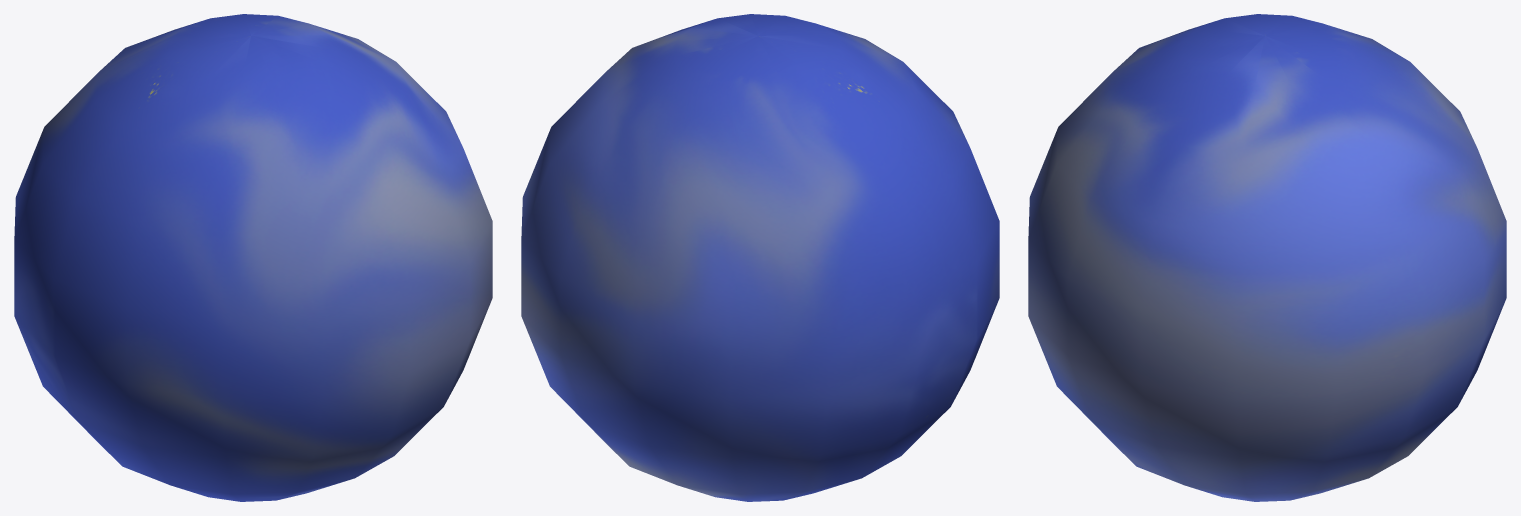
Rendered from tinyblueplanet.fbx.
3 views of the same model, side by side, from view 1: azimuth 30°, elevation 25°; view 2: azimuth 150°, elevation 25°; view 3: azimuth 270°, elevation 25° (orthographic).
Visible parts, largest first — view 1: Sphere.007; view 2: Sphere.007; view 3: Sphere.007.
Boxes of the visible parts, <box> form: Sphere.007: <box>14,14,492,501</box>; Sphere.007: <box>521,14,999,501</box>; Sphere.007: <box>1028,14,1506,501</box>.
Bounding box in the file's own units: 1.05 × 1.07 × 1.04.
